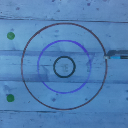Axe Tip: (105, 53, 114, 55)
